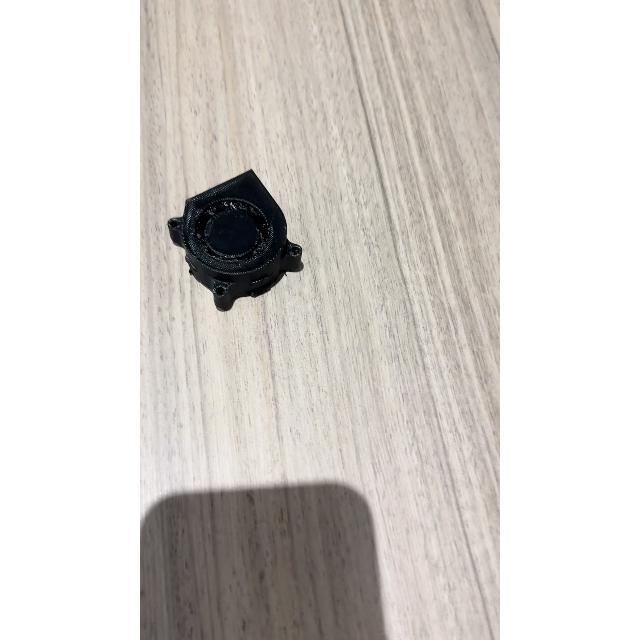Pieza3: (160, 163, 308, 317)
